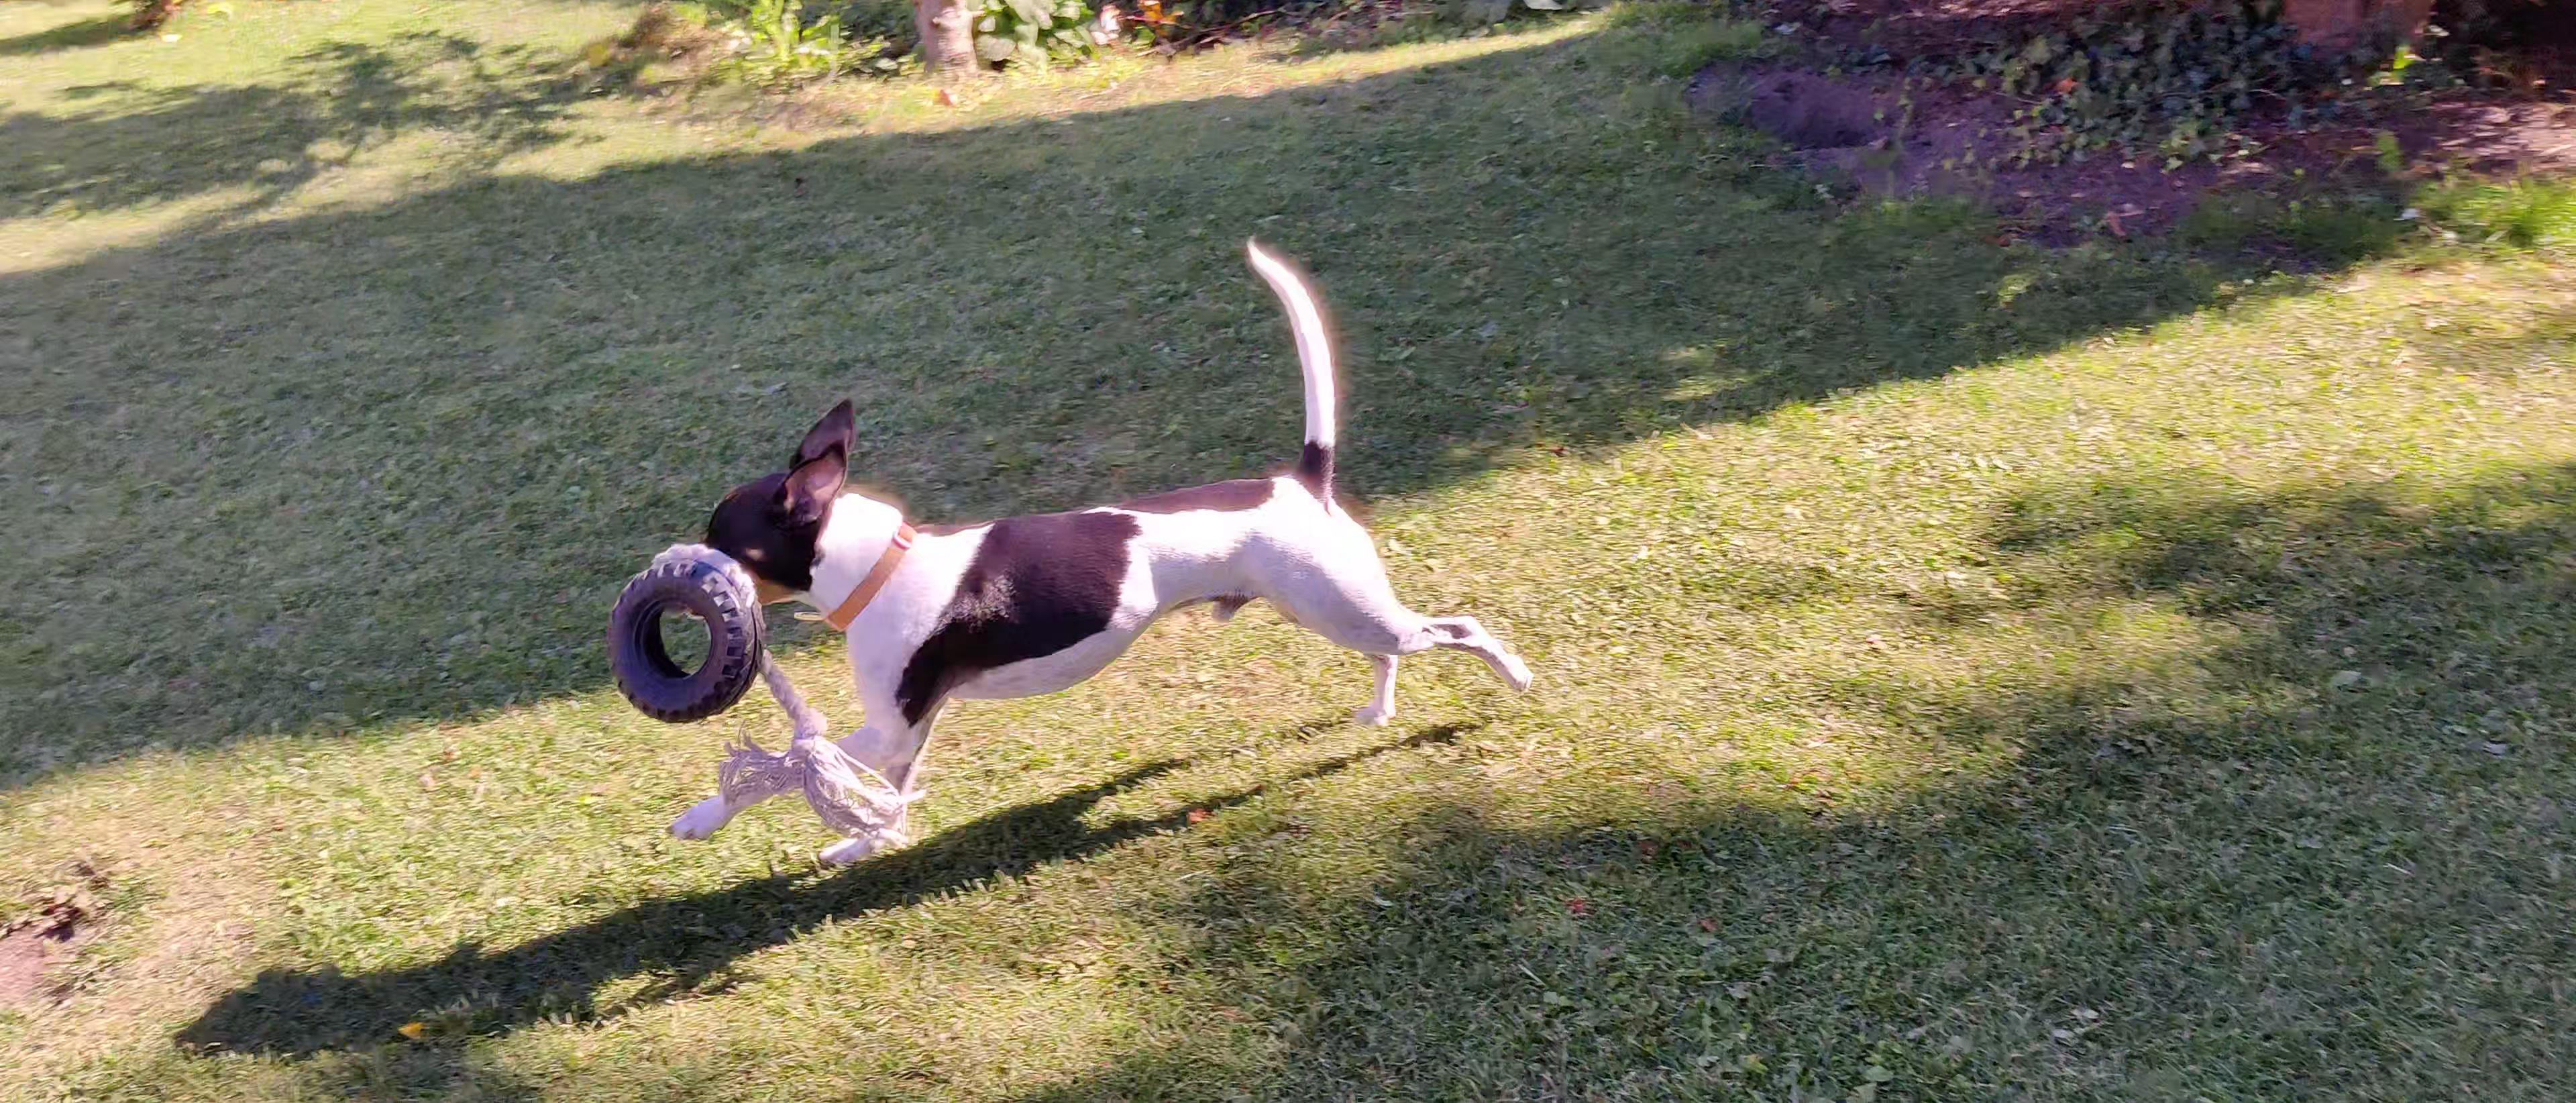Dog: (654, 212, 1549, 876)
